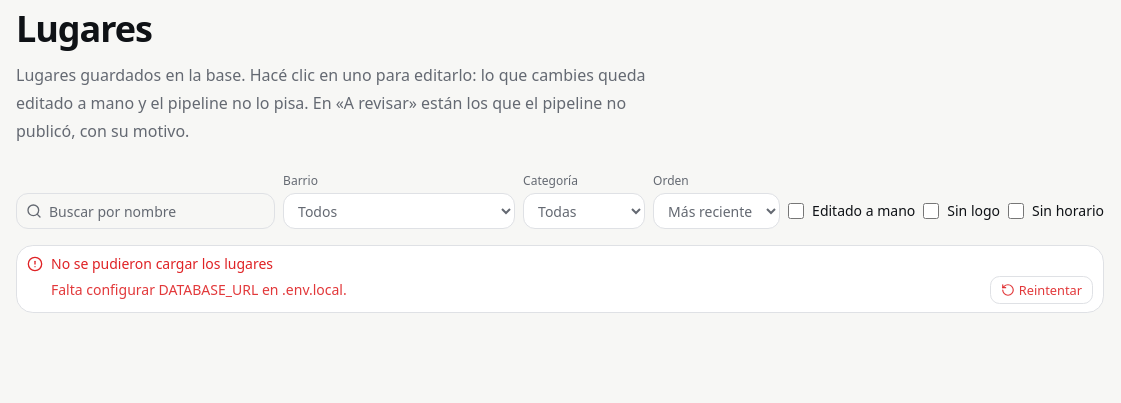
Scenario: SavedPlacesPage › muestra el error y permite reintentar
Expected: the text "Falta configurar DATABASE_URL en .env.local." is shown, [51,280,347,300]
Click the button "Reintentar": [1041, 290] box [990,276,1093,304]
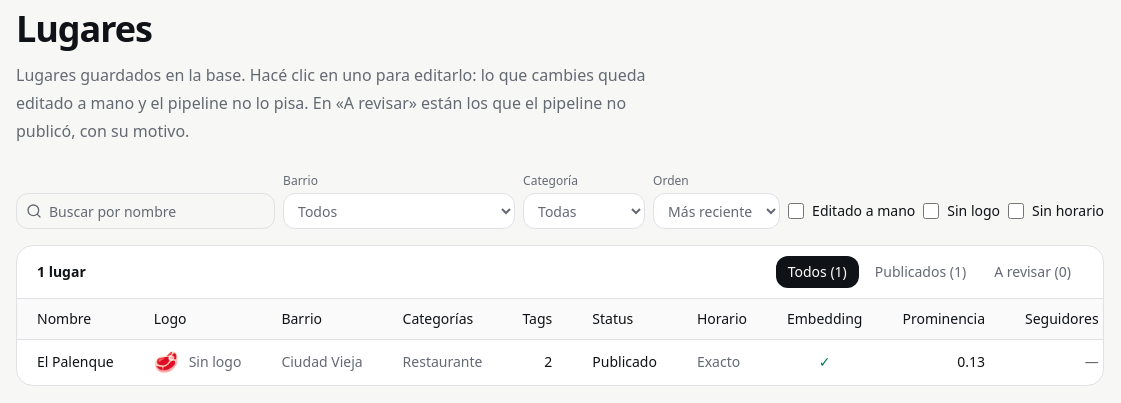
Expected: the text "1 lugar" is shown, [37,262,86,282]
